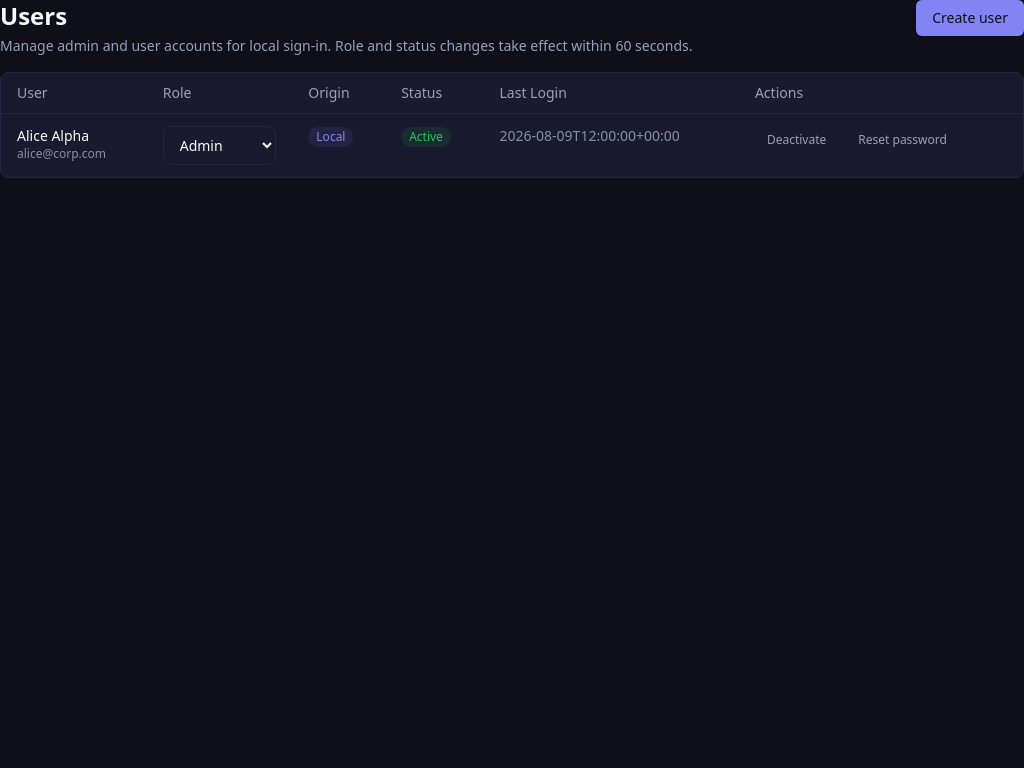
Test case: AdminUsersPage — create user flow › username-already-exists: renders the server error inline, dialog stays open
The image size is (1024, 768).
Check: the text "Alice Alpha" is shown, box [17,126,89,145]
Click the button "Create user": (970, 18) [916,0,1023,36]
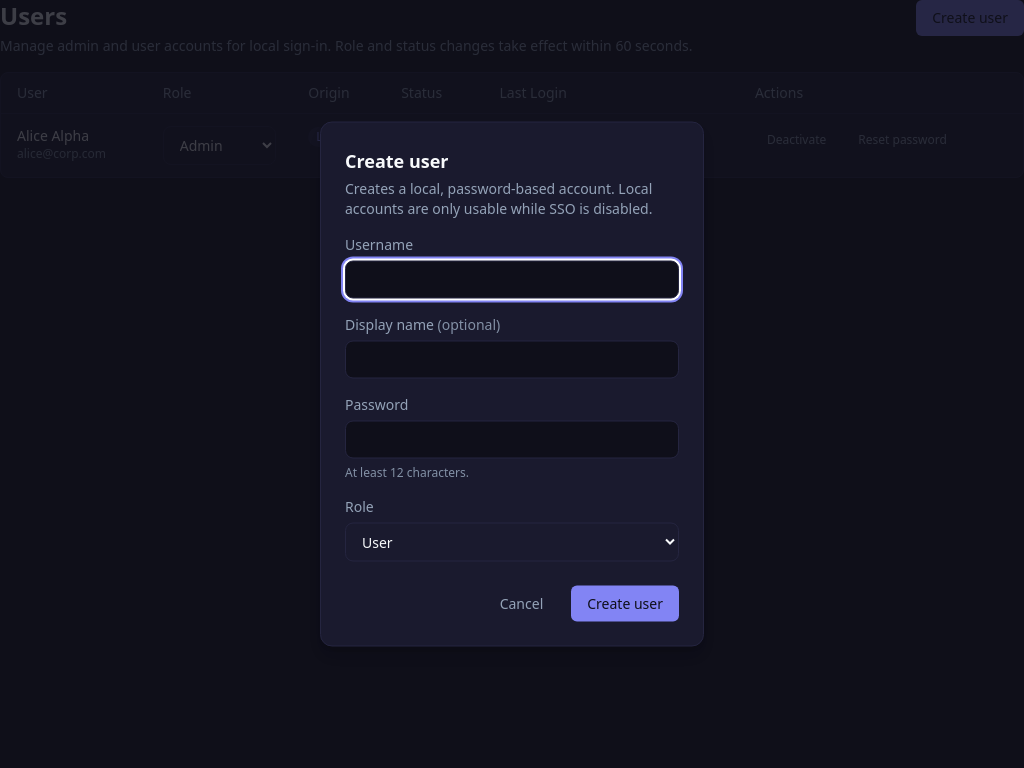
In the field labelled "Username": (512, 280) [345,260,679,298], type "zoe"
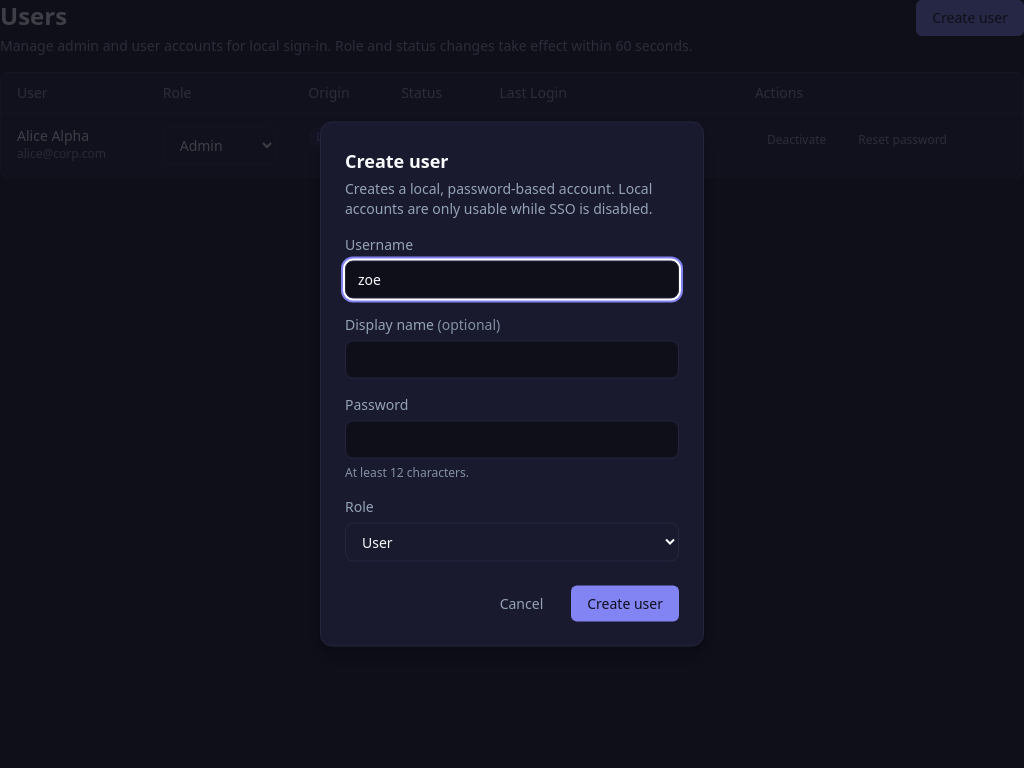
In the password field labelled "Password": (512, 440) [345,420,679,458], type "a-very-long-password"
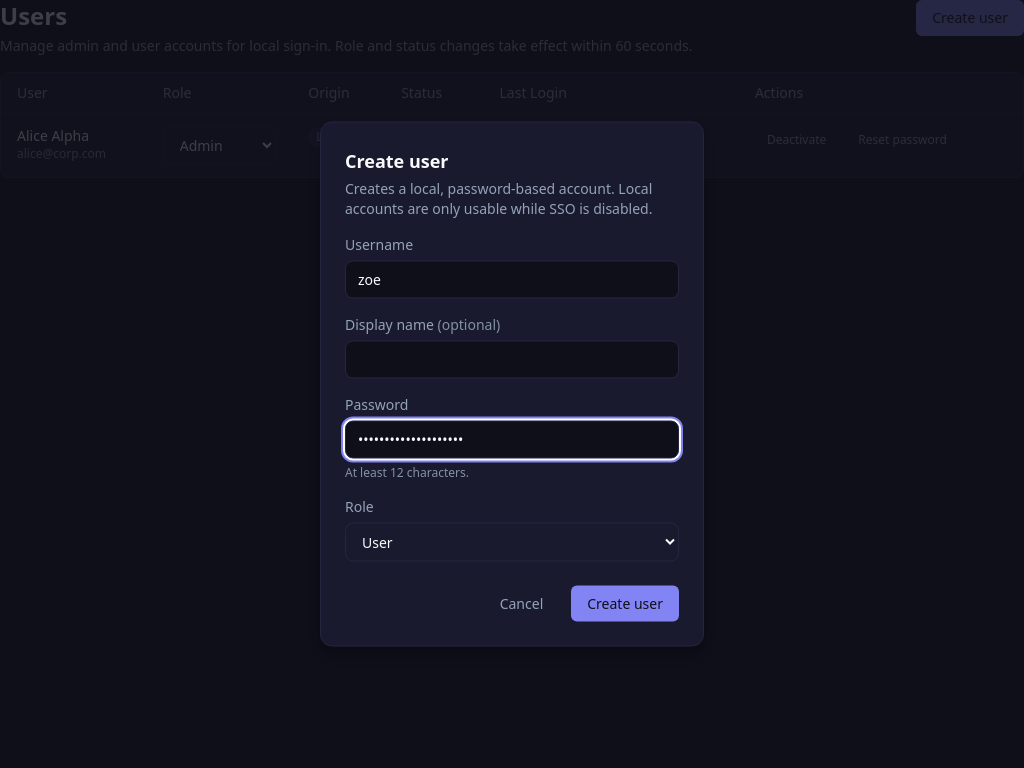
Click the button "Create user": (625, 604) [571,586,679,622]
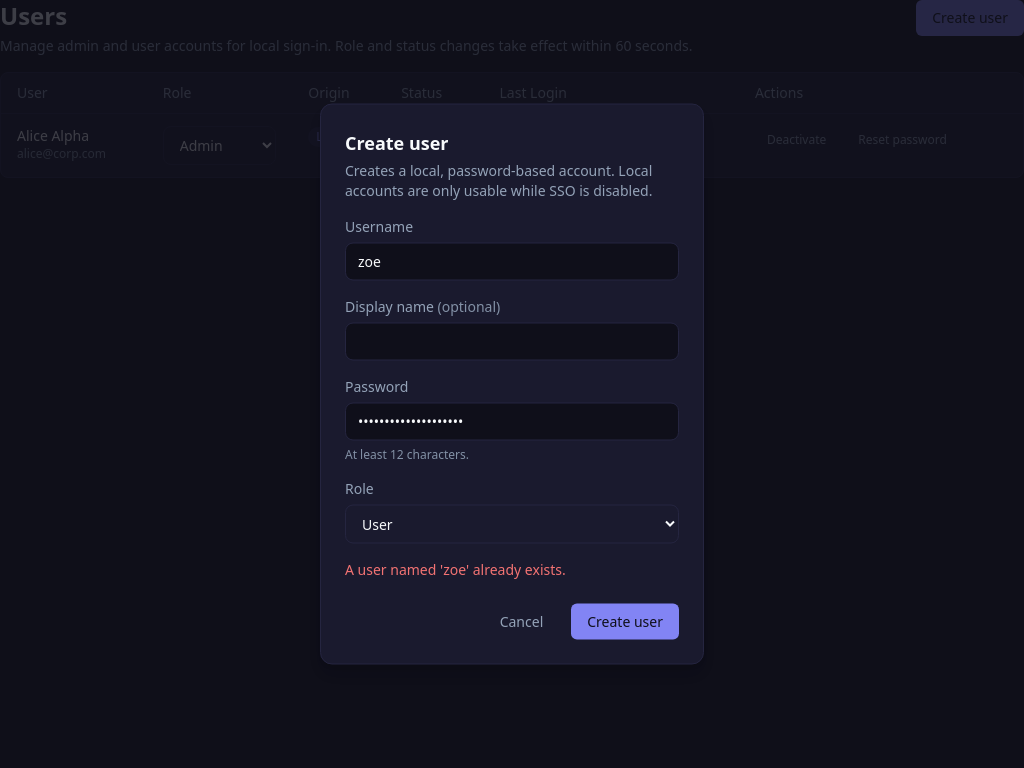
Check: the dialog is shown, box [320,104,704,664]
Check: the text "A user named 'zoe' already exists." is shown, box [345,560,566,578]
